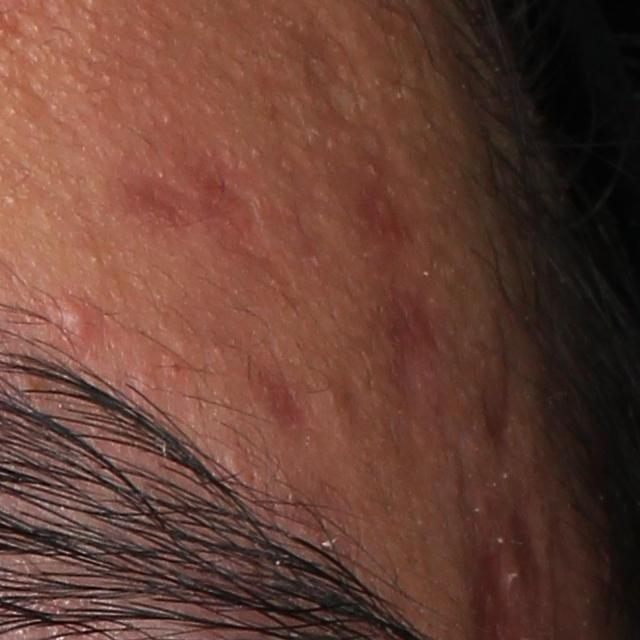papule: (60, 302, 93, 340)
